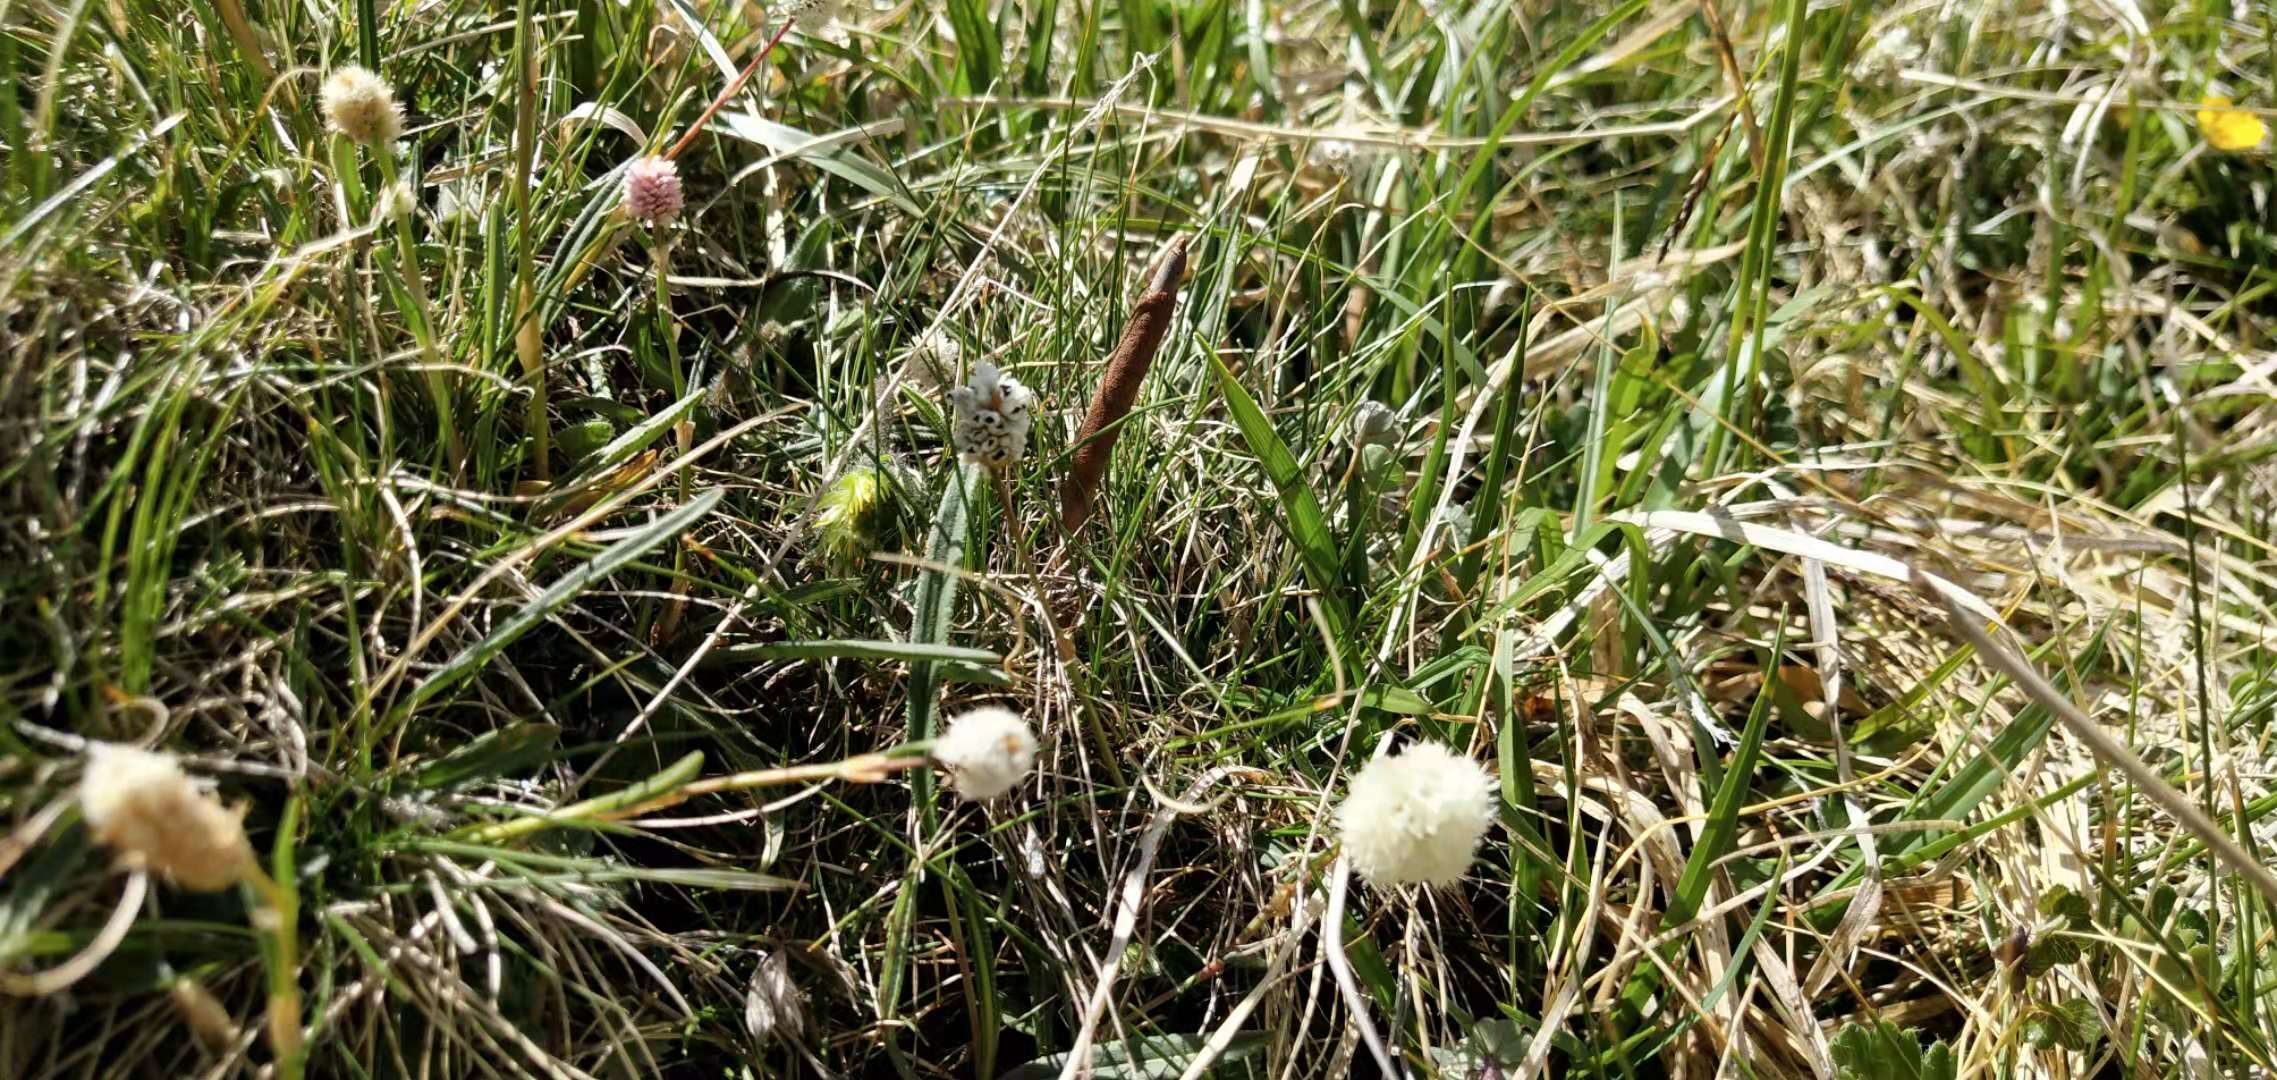w: (1067, 237, 1191, 536)
